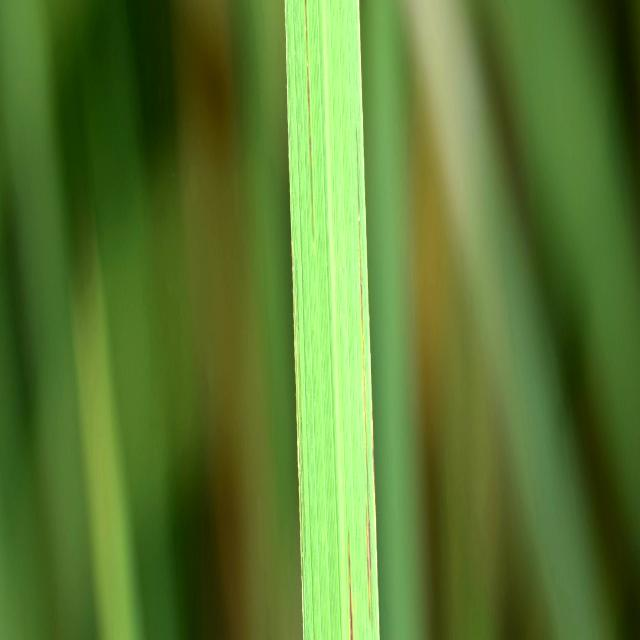BLS: (291, 240, 305, 638), (356, 131, 365, 395), (304, 0, 312, 237), (365, 400, 372, 612), (348, 538, 353, 638)
